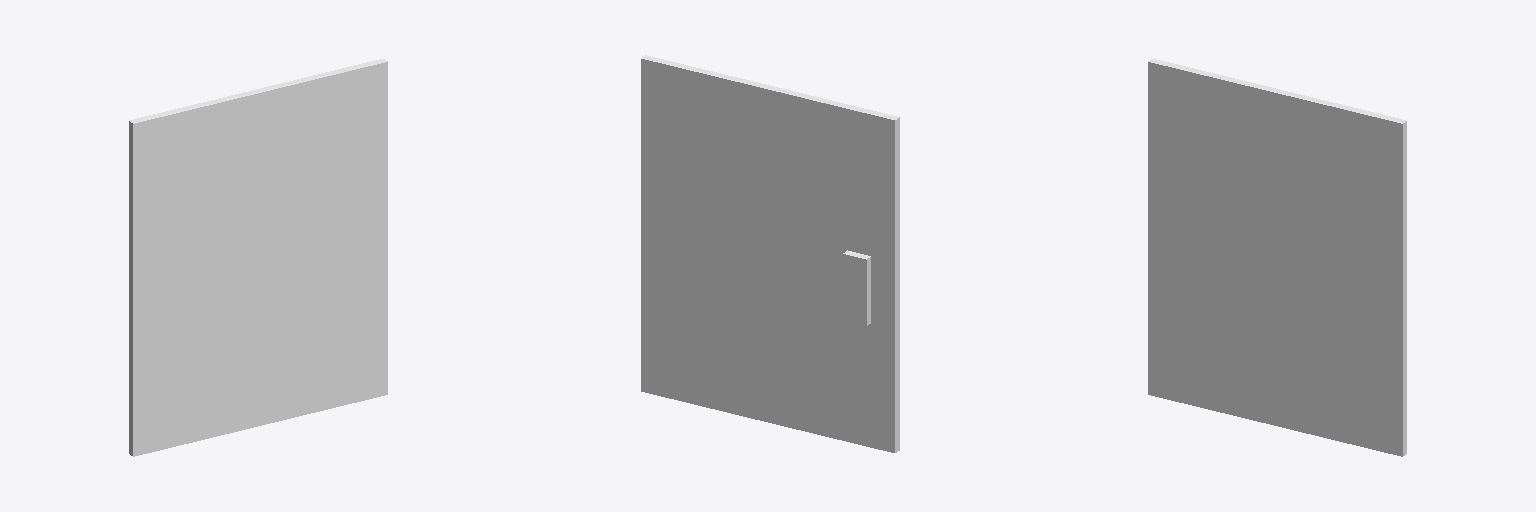
File: Cerraje.obj
3 views of the same model, side by side, from view 1: azimuth 30°, elevation 25°; view 2: azimuth 150°, elevation 25°; view 3: azimuth 330°, elevation 25° (orthographic).
Parts seen in each view (by area): view 1: object 1; view 2: object 1; view 3: object 1.
Boxes of the visible parts, x1=… form: object 1: x1=129, y1=59, x2=387, y2=456; object 1: x1=641, y1=55, x2=899, y2=452; object 1: x1=1148, y1=59, x2=1406, y2=456.
Size of the model in its own units: 3.2 by 4 by 0.2.